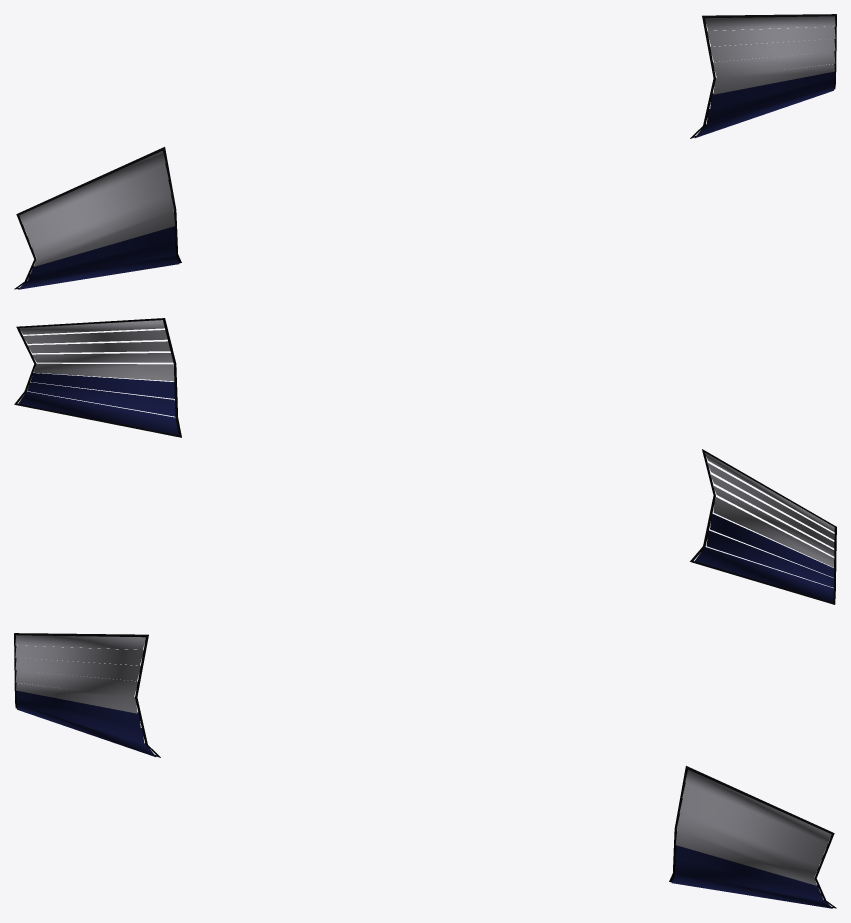
File: winterRadiador.glb
3 renders of one model, top to bottom at view 1: azimuth 30°, elevation 25°; view 2: azimuth 150°, elevation 25°; view 3: azimuth 330°, elevation 25°, orthographic.
Visible parts, largest first — view 1: winterRadiator; view 2: winterRadiator; view 3: winterRadiator.
Boxes of the visible parts, <box> form: winterRadiator: <box>14,14,836,289</box>; winterRadiator: <box>14,318,836,604</box>; winterRadiator: <box>14,633,836,908</box>.
Size of the model in its own units: 178 by 24.34 by 7.95.
1 material, 1 textured.
